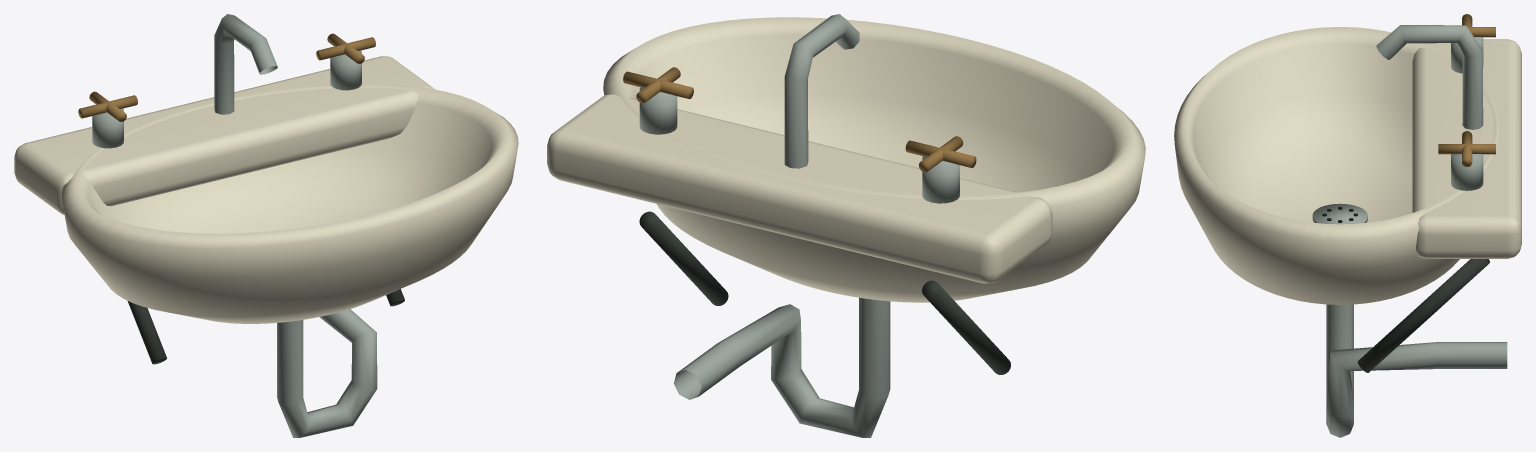
Rendered from sink.glb.
3 renders of one model, left to right at view 1: azimuth 30°, elevation 25°; view 2: azimuth 150°, elevation 25°; view 3: azimuth 270°, elevation 25°, orthographic. The views are drawn at different scales.
Parts seen in each view (by area): view 1: sink__Ivory_porcelain, sink__Tarnished_nickel, sink__Aged_brass, sink__Oxidized_iron; view 2: sink__Ivory_porcelain, sink__Tarnished_nickel, sink__Oxidized_iron, sink__Aged_brass; view 3: sink__Ivory_porcelain, sink__Tarnished_nickel, sink__Oxidized_iron, sink__Aged_brass.
Part boxes in pixels (x1=…): sink__Ivory_porcelain: x1=14, y1=56, x2=518, y2=323; sink__Tarnished_nickel: x1=92, y1=14, x2=377, y2=437; sink__Aged_brass: x1=78, y1=33, x2=375, y2=121; sink__Oxidized_iron: x1=127, y1=289, x2=404, y2=364; sink__Ivory_porcelain: x1=547, y1=17, x2=1145, y2=302; sink__Tarnished_nickel: x1=639, y1=14, x2=959, y2=437; sink__Oxidized_iron: x1=639, y1=211, x2=1010, y2=374; sink__Aged_brass: x1=623, y1=67, x2=976, y2=172; sink__Ivory_porcelain: x1=1174, y1=27, x2=1521, y2=304; sink__Tarnished_nickel: x1=1312, y1=25, x2=1507, y2=437; sink__Oxidized_iron: x1=1357, y1=259, x2=1489, y2=372; sink__Aged_brass: x1=1438, y1=14, x2=1495, y2=166.
Size of the model in its own units: 0.86 by 0.7333 by 0.6031.
